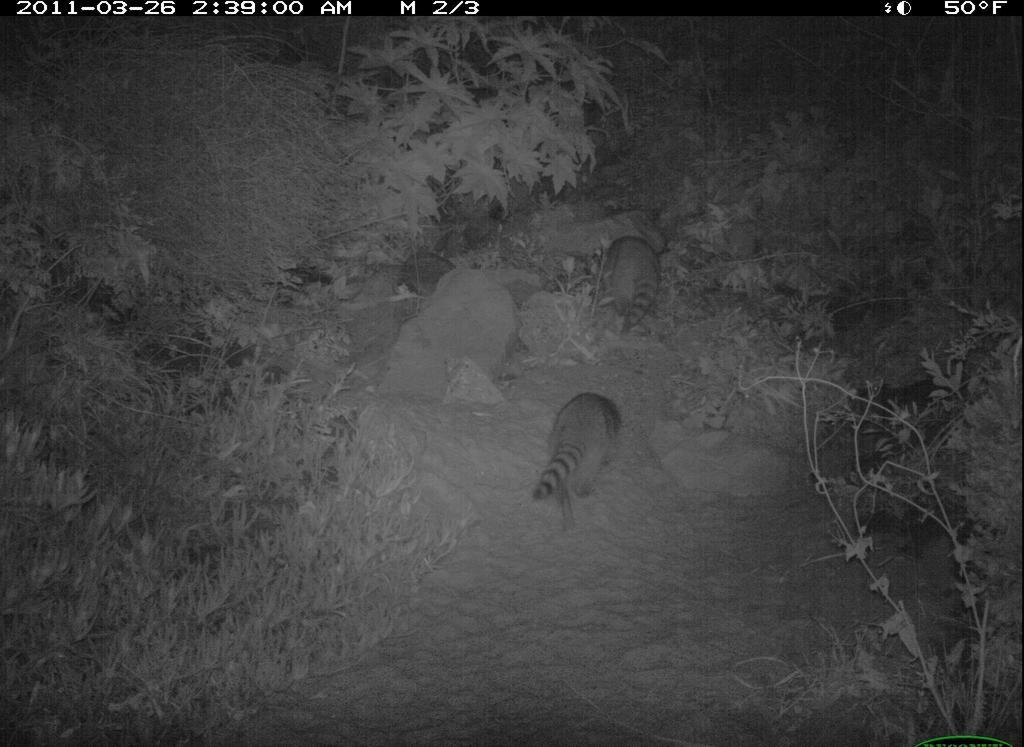raccoon: (525, 385, 642, 532), (594, 210, 666, 342)
